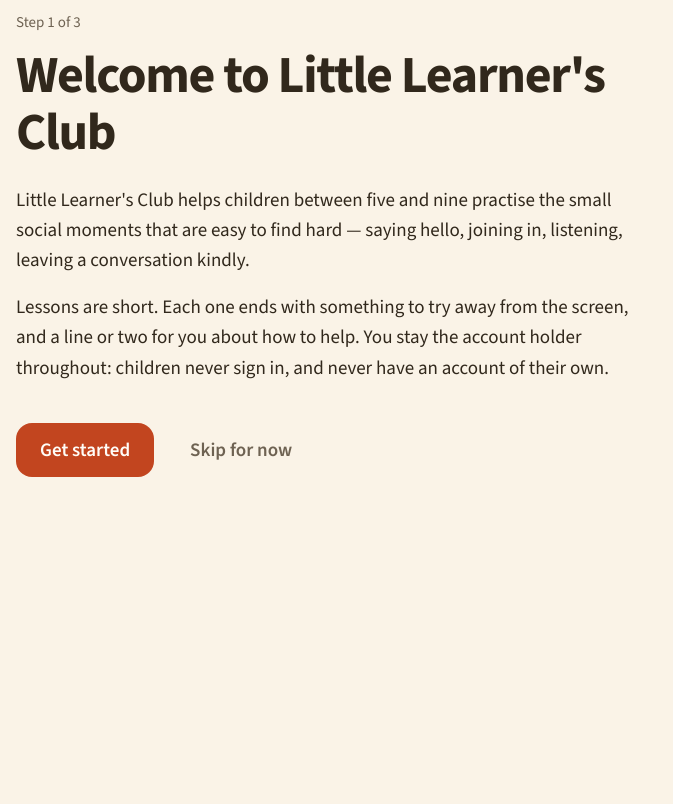
Test: the first profile › collects a nickname, an age band, and a picture — and nothing else
Click the button "Get started" at (85, 450), box [16,423,154,477]
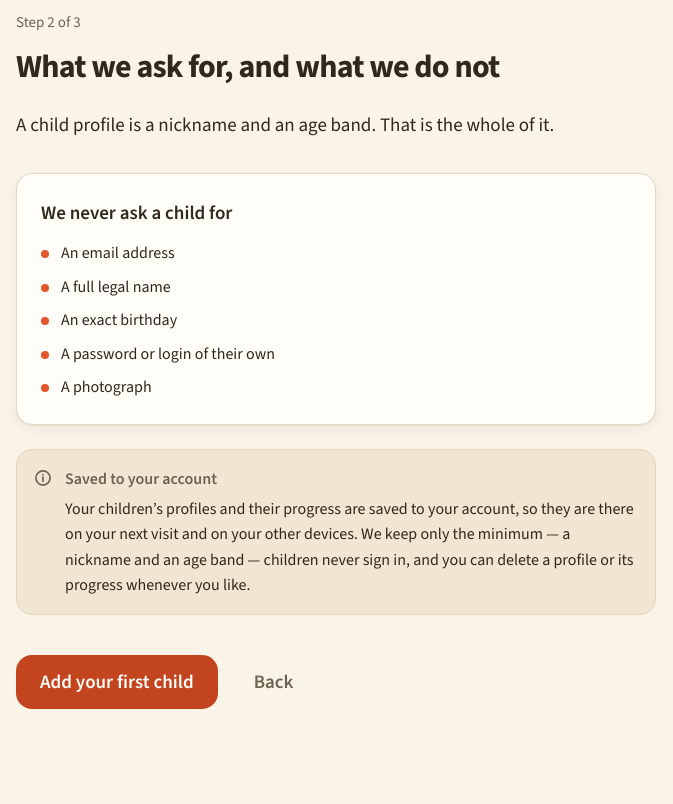
Click the button "Add your first child" at (117, 682), box [16,655,218,709]
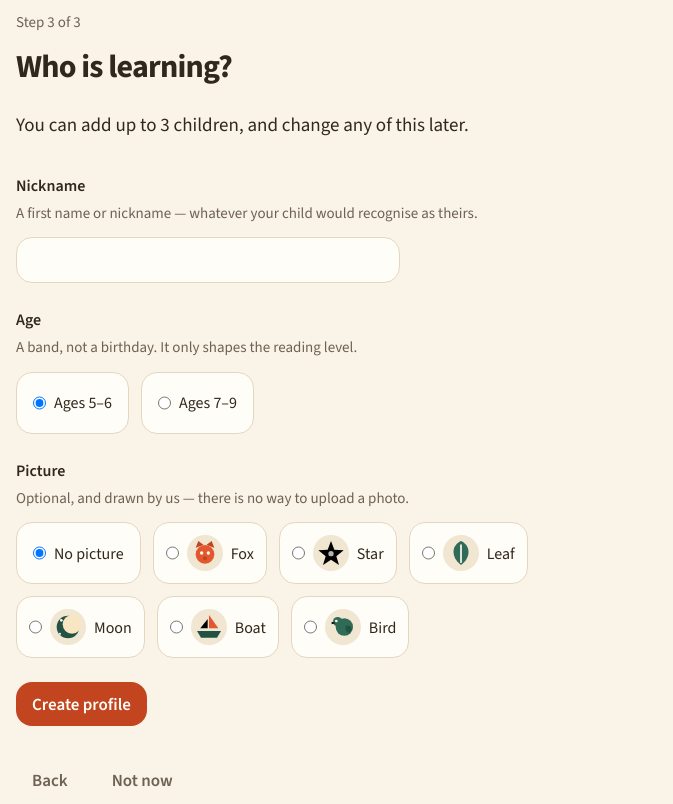
expect the number of fields is 1: met, box [16,238,400,283]
